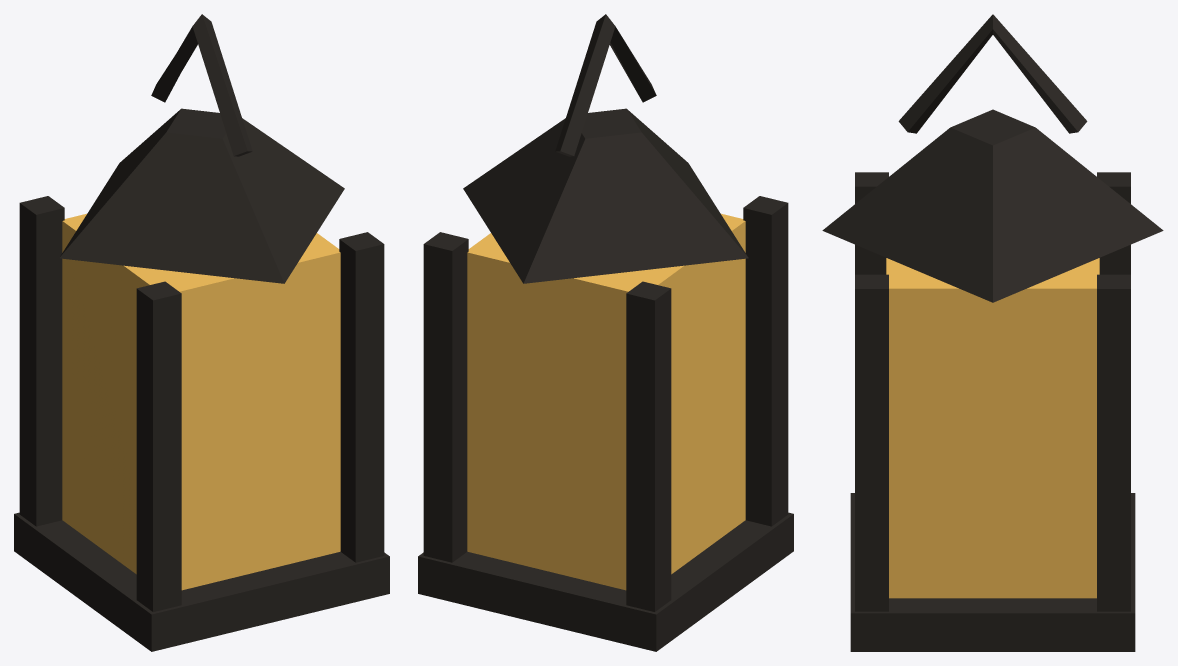
File: Prop_Lantern.fbx
3 renders of one model, left to right at view 1: azimuth 30°, elevation 25°; view 2: azimuth 150°, elevation 25°; view 3: azimuth 270°, elevation 25°, orthographic. The views are drawn at different scales.
Parts seen in each view (by area): view 1: Prop_Lantern.001; view 2: Prop_Lantern.001; view 3: Prop_Lantern.001.
Part boxes in pixels (x1,y1,x2,y2): Prop_Lantern.001: (14,14,389,651); Prop_Lantern.001: (418,14,793,651); Prop_Lantern.001: (822,14,1163,651).
Bounding box in the file's own units: 0.24 × 0.448 × 0.24.
